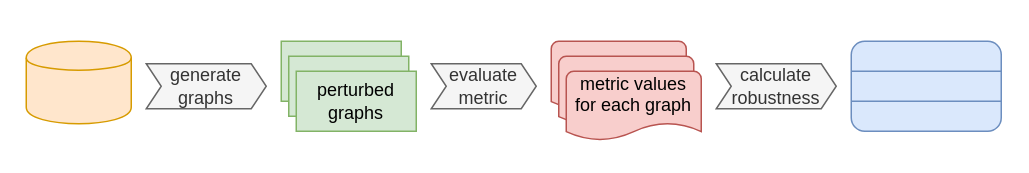
Image size: 1029x173. Some labels were removed from this diagram. Each missing label, with the centre of its shape:
dataset (network): pixel 78 82
RankContinuity RankIdentifiability RankInstability: pixel 925 85
